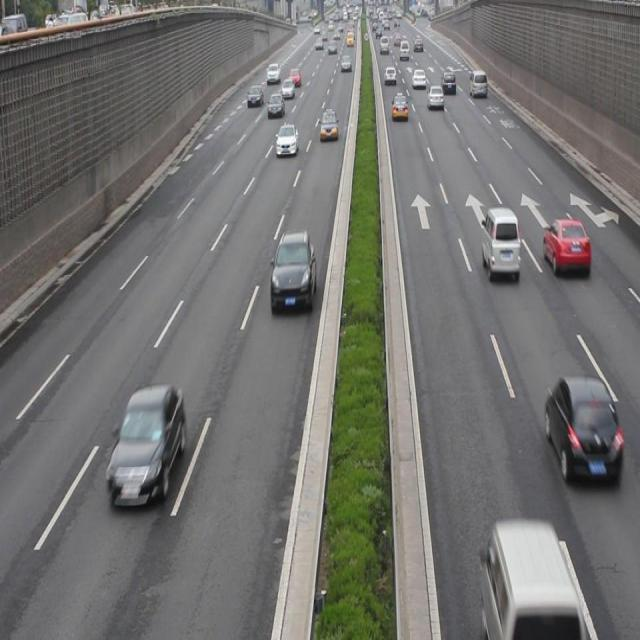car: (105, 383, 184, 508), (544, 373, 622, 482), (269, 230, 316, 314), (542, 215, 590, 278), (275, 122, 299, 157), (318, 109, 339, 141)
truck: (483, 519, 578, 640), (481, 206, 520, 279)
